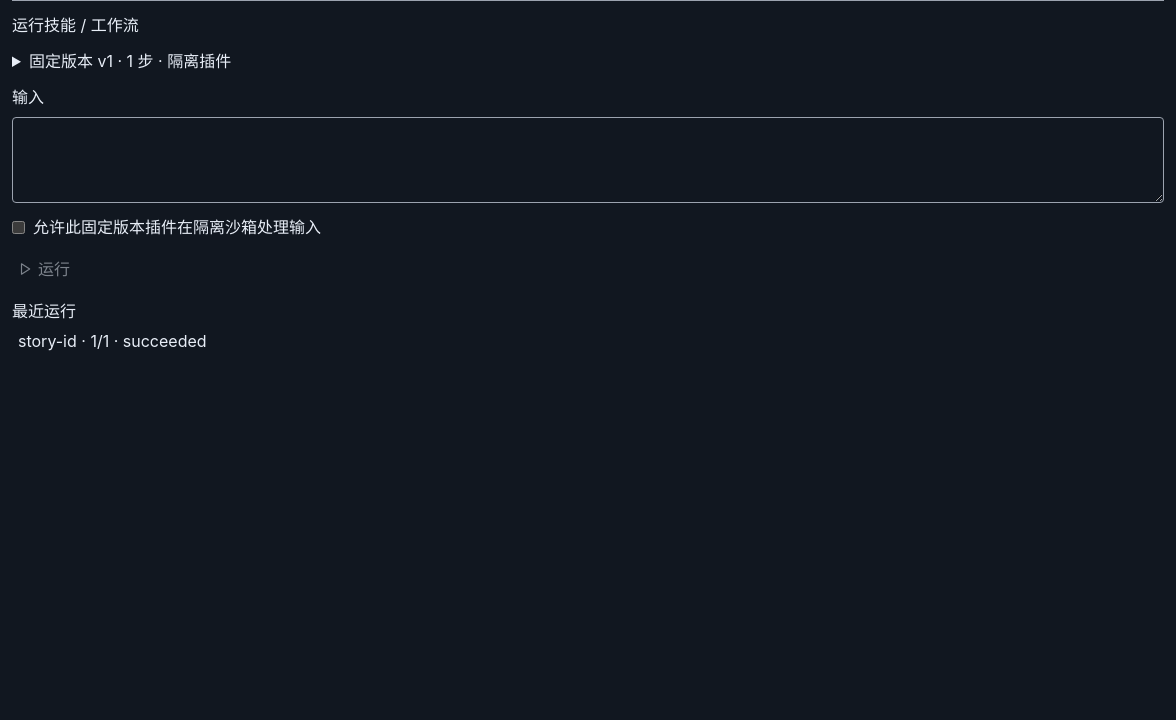
AssetExecutionPanel › lists server-side history without local storage and opens a previous result read-only
What coordinates should you click on to do the following:
click the button "story-id · 1/1 · succeeded"
I would click on:
 (112, 341)
Its box is [12,323,212,359].
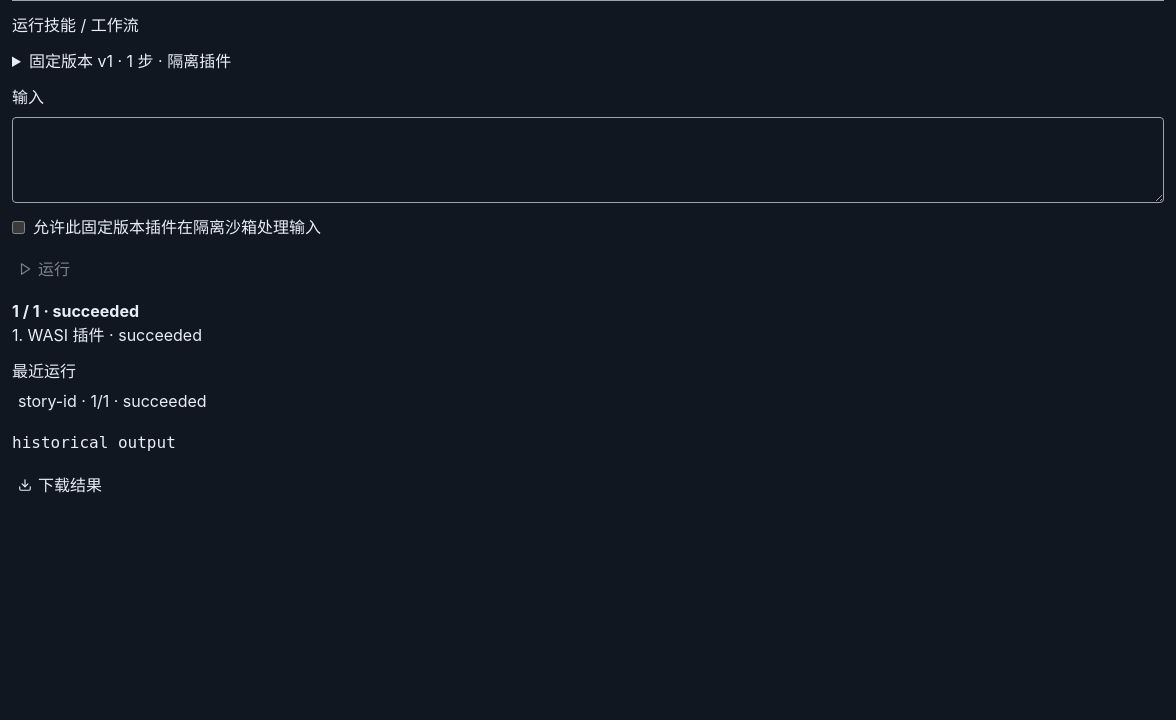
Now the text "historical output" is shown, box [12,433,176,452]
